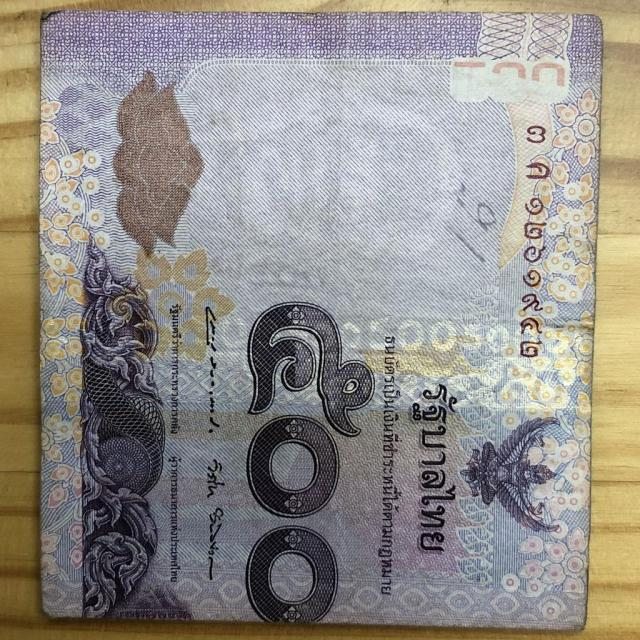THAI500: (36, 8, 606, 635)
